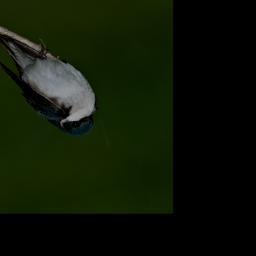Swallow: (0, 11, 109, 159)
